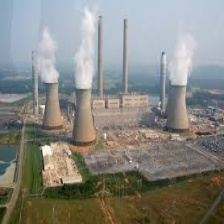smoke: (37, 24, 60, 83), (78, 16, 95, 87), (167, 38, 192, 86)
